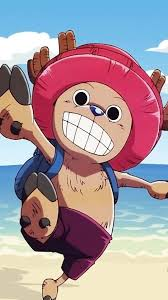chopper: (26, 30, 168, 172)
